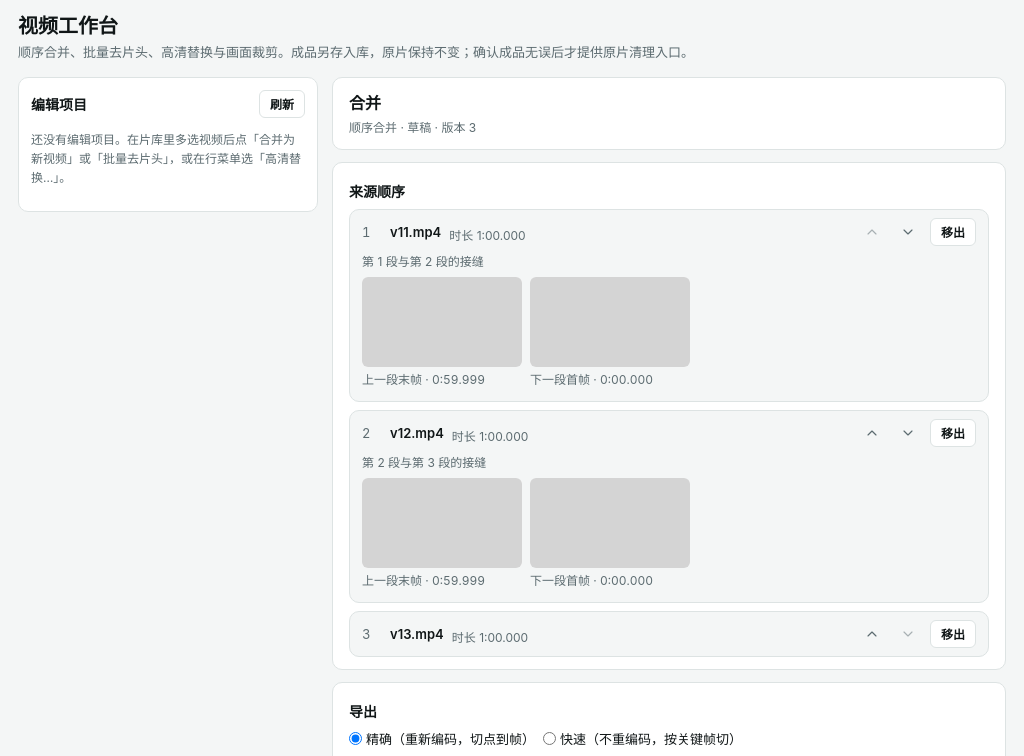
it: 视频工作台页（视频编辑合同「界面」） › 改配方带 expected_revision 保存；冲突时重读服务器版本并丢弃本地改动
Click the button with test id "merge-up-13".
click(872, 634)  # box [858,620,886,648]
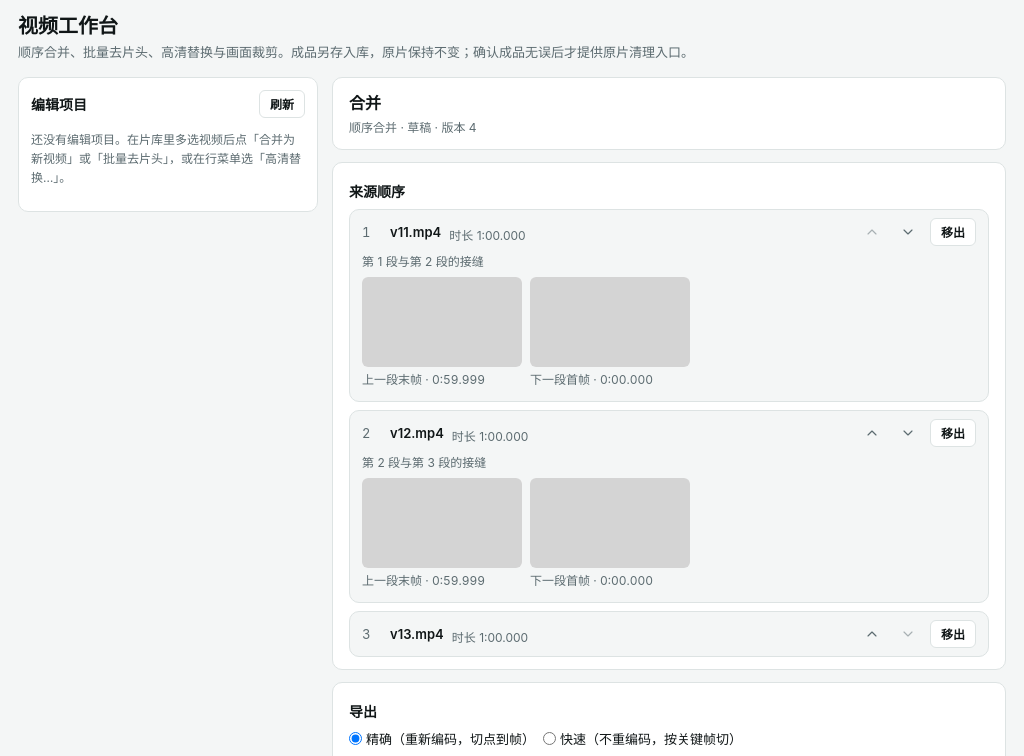
expect the text "版本 4" is shown: met, box [349,120,476,134]
